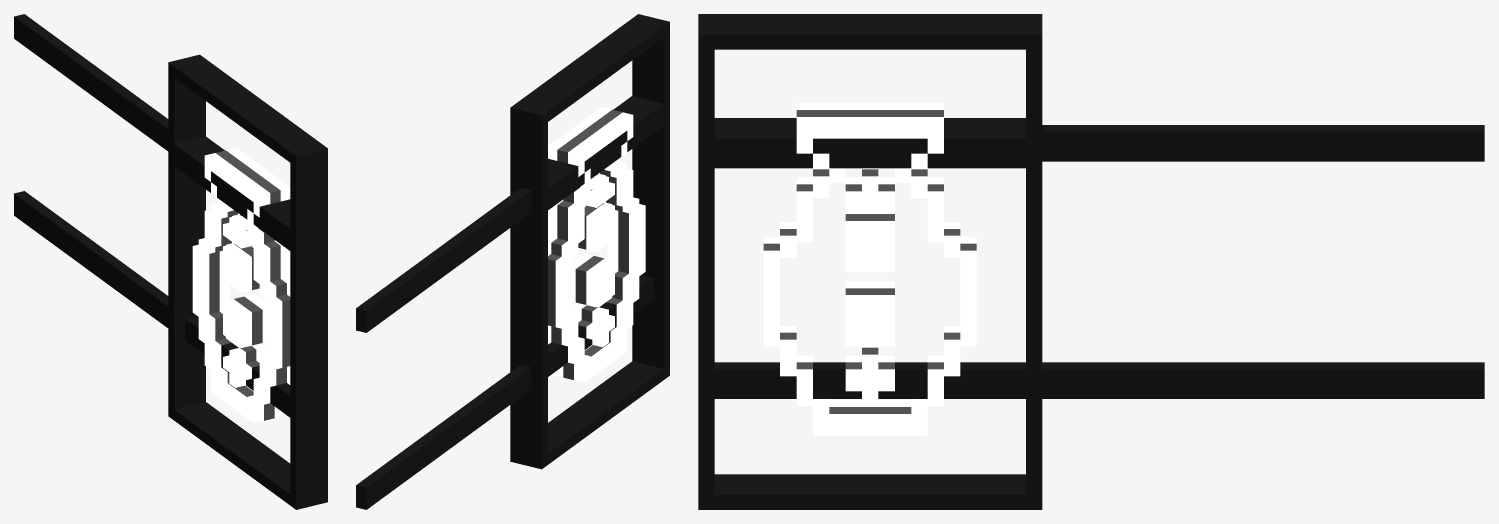
Rendered from izakayaSign.glb.
3 views of the same model, side by side, from view 1: azimuth 30°, elevation 25°; view 2: azimuth 150°, elevation 25°; view 3: azimuth 270°, elevation 25° (orthographic). The views are drawn at different scales.
Parts seen in each view (by area): view 1: ObjObject; view 2: ObjObject; view 3: ObjObject.
Boxes of the visible parts, box(x1,y1,x2,y2) form: ObjObject: box(14, 14, 327, 509); ObjObject: box(356, 14, 669, 509); ObjObject: box(698, 14, 1484, 509).
Size of the model in its own units: 0.3 by 3.2 by 4.8.
2 materials, 1 textured.
